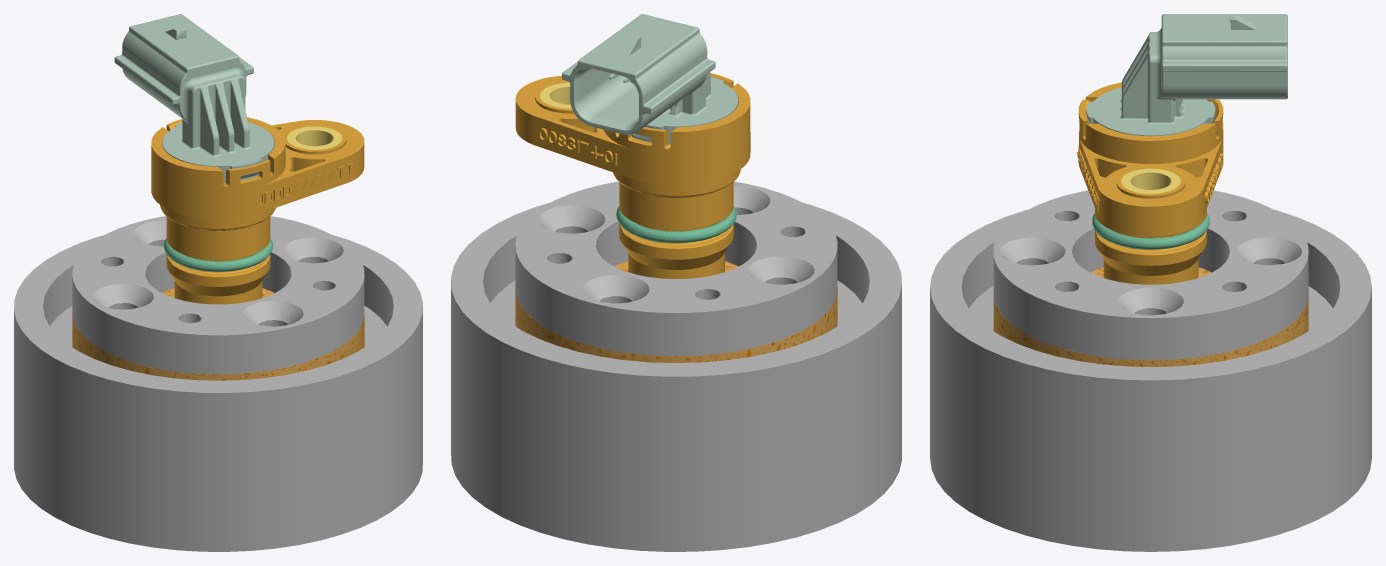
Rendered from oiling-assembly.glb.
3 renders of one model, left to right at view 1: azimuth 30°, elevation 25°; view 2: azimuth 150°, elevation 25°; view 3: azimuth 270°, elevation 25°, orthographic. The views are drawn at different scales.
Visible parts, largest first — view 1: Speed Sensor Stand-1, 0083174_01 - SENSOR-SPEED-1, Speed Sensor Sponge Press Outer-1, Sponge Outer-1; view 2: Speed Sensor Stand-1, 0083174_01 - SENSOR-SPEED-1, Speed Sensor Sponge Press Outer-1, Sponge Outer-1; view 3: Speed Sensor Stand-1, 0083174_01 - SENSOR-SPEED-1, Speed Sensor Sponge Press Outer-1, Sponge Outer-1.
Boxes of the visible parts, x1,y1,x2,y2 form: Speed Sensor Stand-1: (14,235,422,551); 0083174_01 - SENSOR-SPEED-1: (114,14,364,304); Speed Sensor Sponge Press Outer-1: (72,216,364,374); Sponge Outer-1: (72,288,364,380); Speed Sensor Stand-1: (451,202,901,551); 0083174_01 - SENSOR-SPEED-1: (515,14,750,278); Speed Sensor Sponge Press Outer-1: (515,181,837,356); Sponge Outer-1: (515,261,837,363); Speed Sensor Stand-1: (930,209,1371,551); 0083174_01 - SENSOR-SPEED-1: (1077,14,1287,284); Speed Sensor Sponge Press Outer-1: (993,190,1308,360); Sponge Outer-1: (993,267,1308,366).
Bounding box in the file's own units: 0.07 × 0.0772 × 0.07.
Materials: 6 (1 with a texture image).
